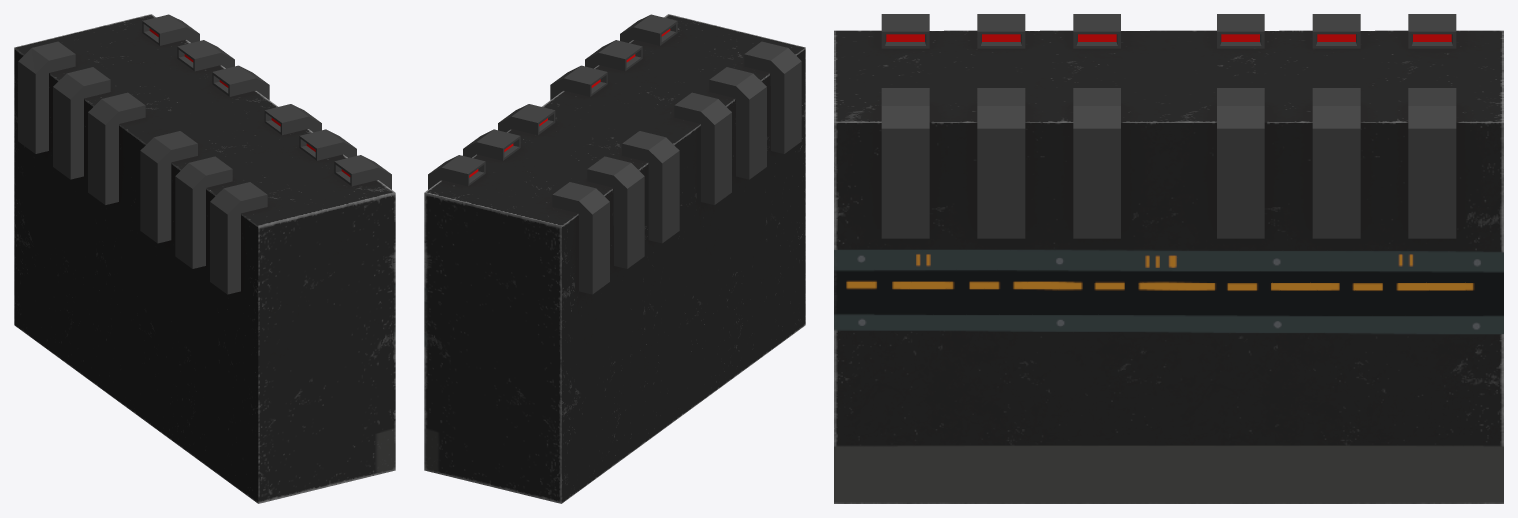
File: wall.obj
3 renders of one model, left to right at view 1: azimuth 30°, elevation 25°; view 2: azimuth 150°, elevation 25°; view 3: azimuth 270°, elevation 25°, orthographic. The views are drawn at different scales.
Parts seen in each view (by area): view 1: Wall_Cube.003; view 2: Wall_Cube.003; view 3: Wall_Cube.003.
Boxes of the visible parts, x1=… form: Wall_Cube.003: x1=14, y1=14, x2=395, y2=503; Wall_Cube.003: x1=424, y1=14, x2=805, y2=503; Wall_Cube.003: x1=834, y1=14, x2=1503, y2=503.
Bounding box in the file's own units: 1.56 × 2.62 × 4.
1 material, 1 textured.
